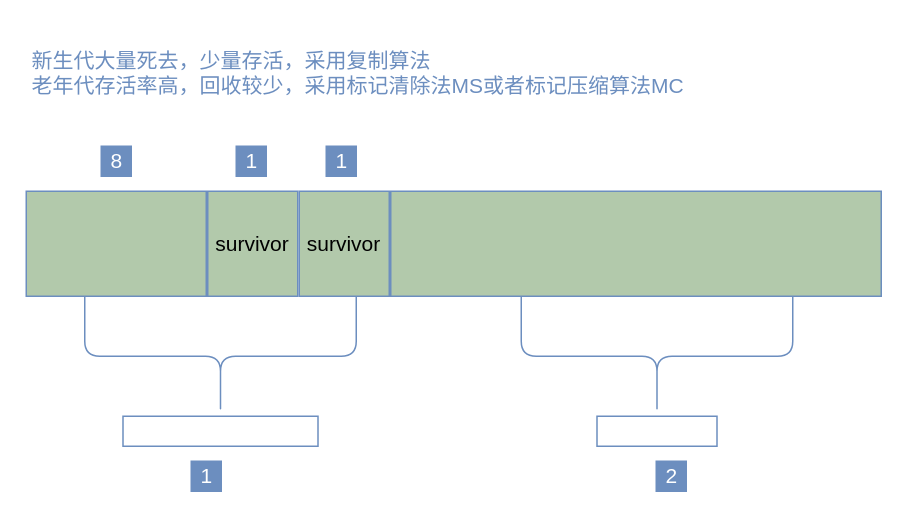
Image size: 908x518. Some labels were removed from this diagram. The shapes that lost their labels are listed below. From the top down, each one's centre as x and y in pixels, then its label:
(115,243): eden
(635,243): tenured(终生)
(220,430): new/yong 新生代
(656,430): old 老年代
